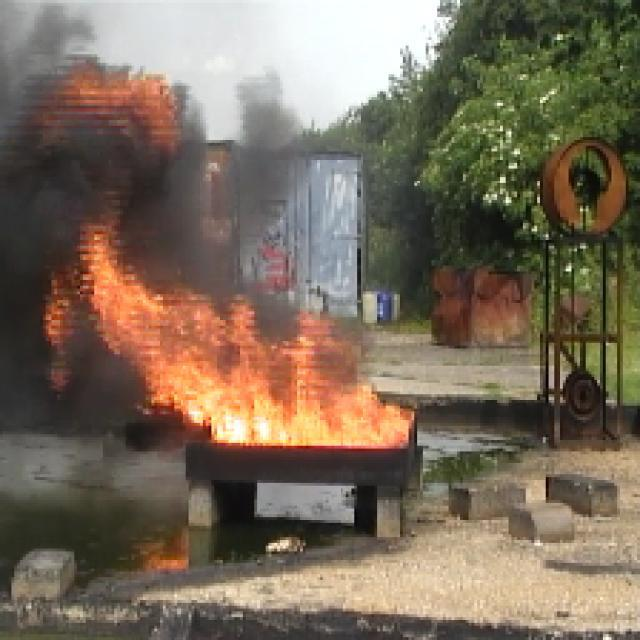Fire: (70, 260, 414, 450)
Smoke: (21, 123, 213, 226)
